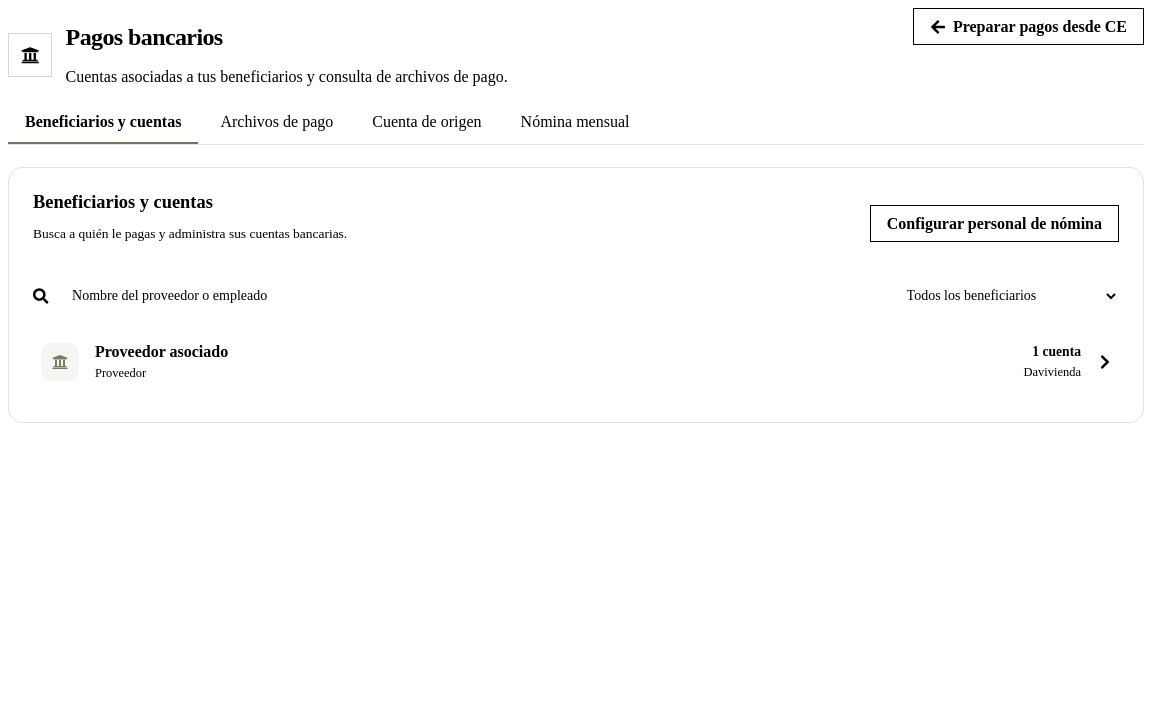
Test: Preparación bancaria › administra cuentas por beneficiario y dirige la preparación a CE
What coordinates should you click on to do the following:
click the button "Proveedor asociado Proveedor 1 cuenta Davivienda"
I would click on:
 (60, 362)
Its box is [33,326,1119,398].
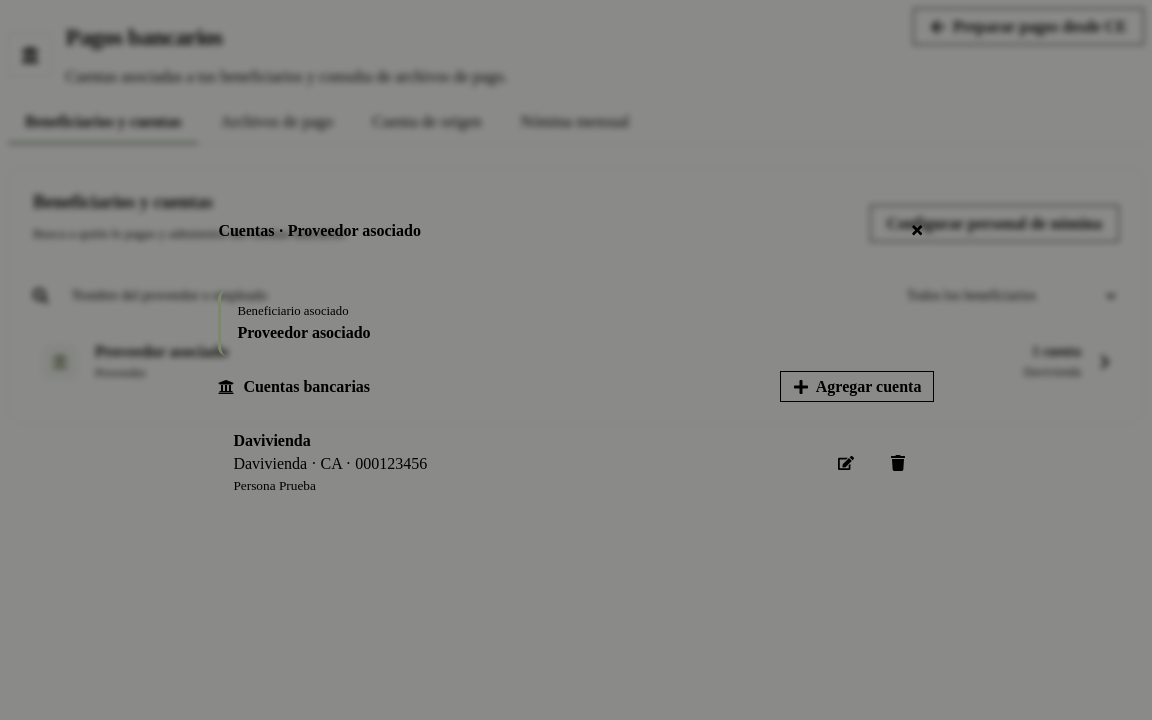
Result: the text "Beneficiario asociado" is shown at [237,304,349,318]
